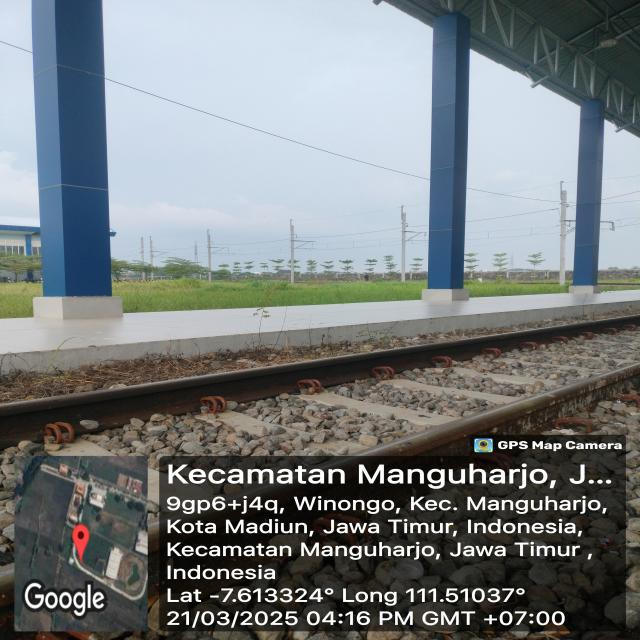rail-detection: (0, 315, 640, 448), (356, 362, 640, 456)
